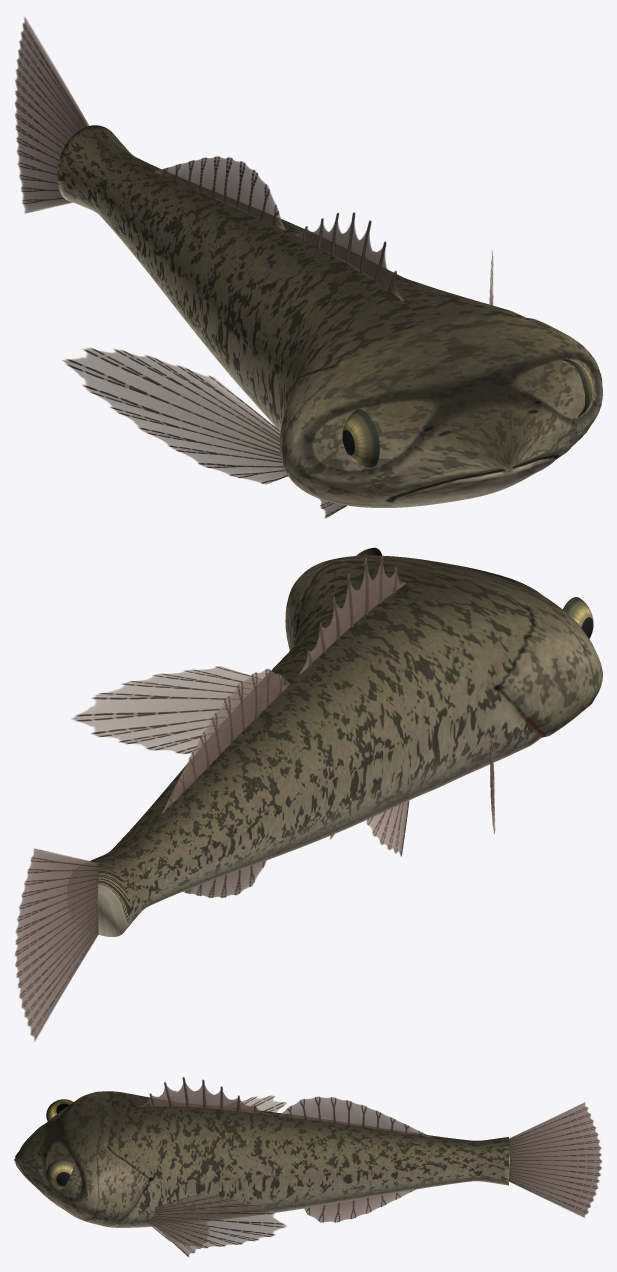
File: glowacz.glb
3 views of the same model, one above another, from view 1: azimuth 30°, elevation 25°; view 2: azimuth 150°, elevation 25°; view 3: azimuth 270°, elevation 25° (orthographic). The views are drawn at different scales.
Visible parts, largest first — view 1: Body, FinPectoral, FinCaudal, FinDorsal2, FinDorsal1, EyeLeft; view 2: Body, FinCaudal, FinPectoral, FinDorsal2, FinDorsal1, FinPelvic, FinAnal, EyeLeft; view 3: Body, FinCaudal, FinPectoral, FinDorsal2, FinDorsal1, FinAnal, FinPelvic, EyeRight, EyeLeft.
Boxes of the visible parts, x1,y1,x2,y2 form: Body: (57,125,602,507); FinPectoral: (62,250,493,484); FinCaudal: (15,17,89,213); FinDorsal2: (153,156,285,230); FinDorsal1: (290,212,404,302); EyeLeft: (342,409,379,467); Body: (90,555,602,936); FinCaudal: (15,848,98,1041); FinPectoral: (71,666,495,834); FinDorsal2: (161,668,290,814); FinDorsal1: (295,555,408,678); FinPelvic: (329,800,409,856); FinAnal: (183,860,266,897); EyeLeft: (562,597,593,638); Body: (14,1091,509,1227); FinCaudal: (509,1102,601,1217); FinPectoral: (148,1095,287,1248); FinDorsal2: (278,1096,432,1137); FinDorsal1: (137,1077,271,1114); FinAnal: (304,1189,415,1222); FinPelvic: (158,1222,209,1257); EyeRight: (46,1158,74,1189); EyeLeft: (46,1099,73,1121).
Bounding box in the file's own units: 0.4986 × 0.3294 × 1.
Materials: 9 (8 with a texture image).
